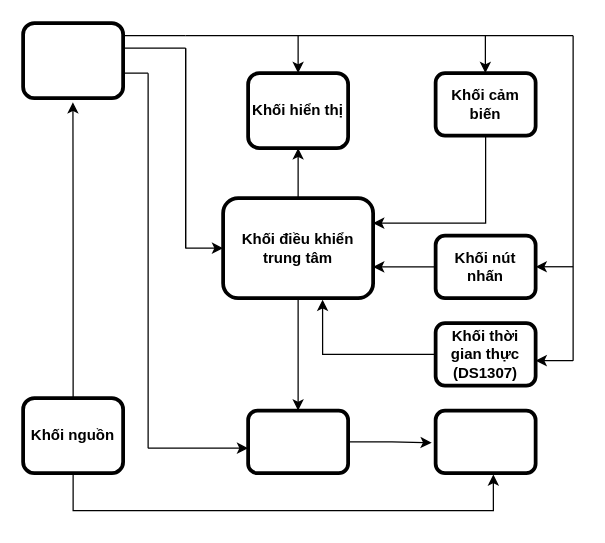
Image size: 605x543. Some labels were removed from this diagram. The shapes that lost their labels are listed below. From the top down, each one's centre as x and y in pixels, then its label:
At pixel 72 60: "Khối cách ly nguồn".
At pixel 297 441: "Khối cách ly quang".
At pixel 485 441: "Khối Relay".
